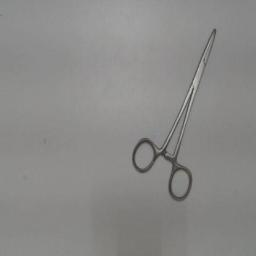Mayo Needle Holder: (126, 20, 222, 206)
